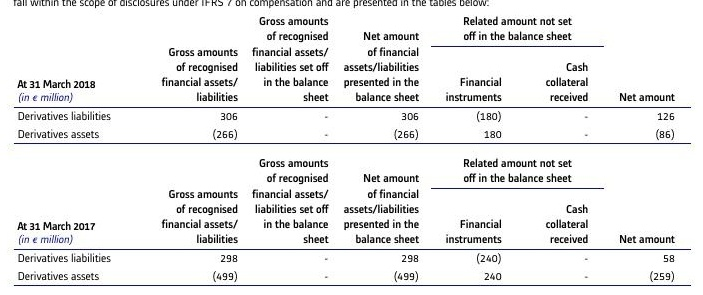table: (0, 0, 703, 295)
